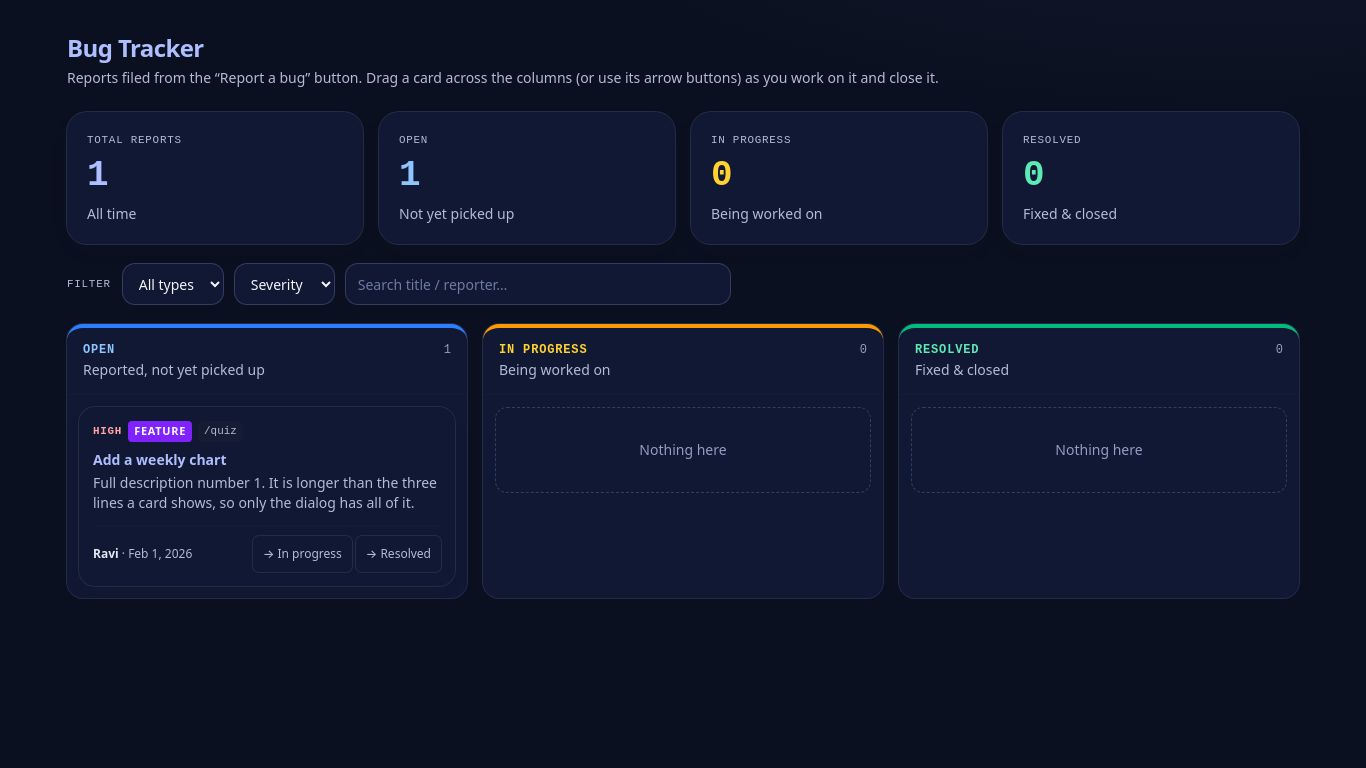
Scenario: Bug Tracker: 20 cards per column page, and every card opens › clicking a card opens the full report: everything written, who and when, and status buttons
Click the button with aria-label "Open report: Add a weekly chart". click: click(160, 459)
box: [93,440,226,479]
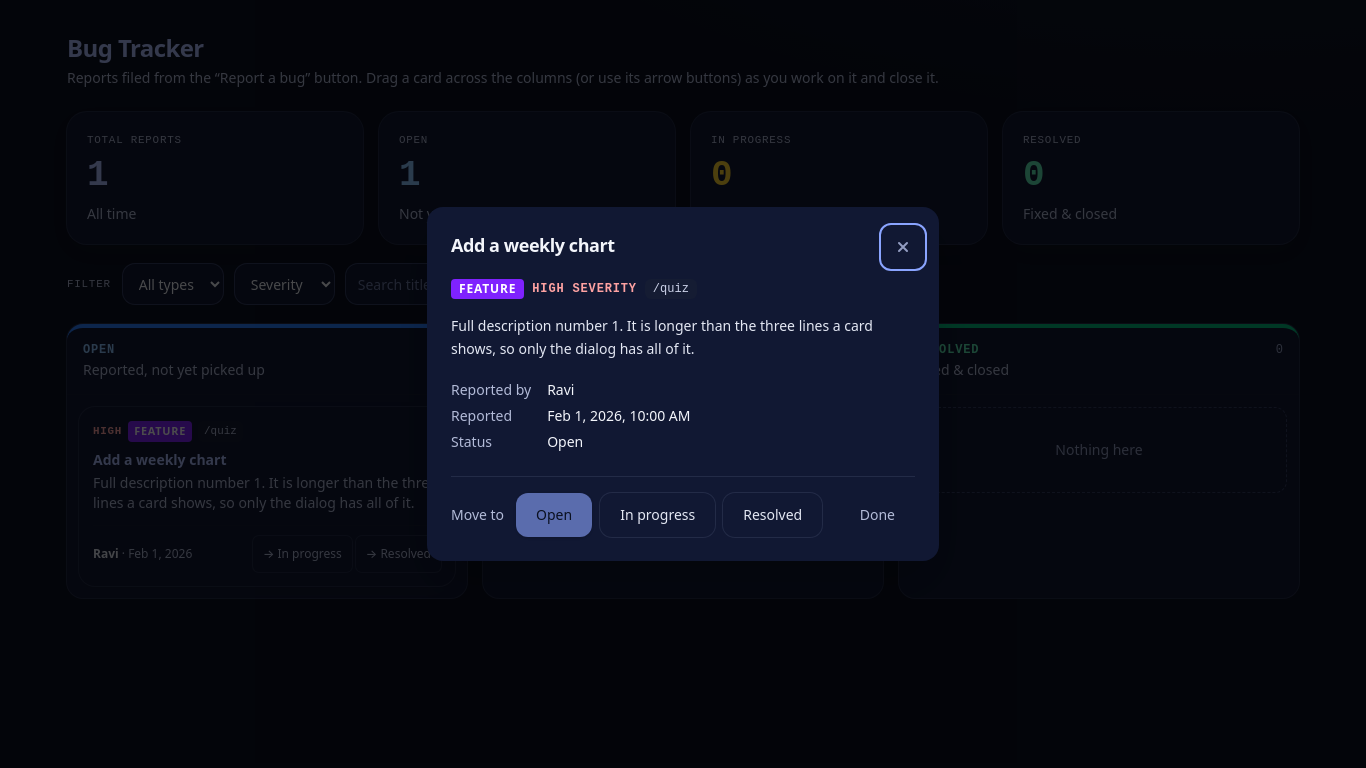
expect the text "only the dialog has all of it" is shown: met, box [451,316,877,358]
expect the text "Ravi" is shown: met, box [547,380,574,399]
expect the text "High severity" is shown: met, box [532,281,637,297]
Click the button "Done". click: click(877, 515)
box: [840,493,915,537]
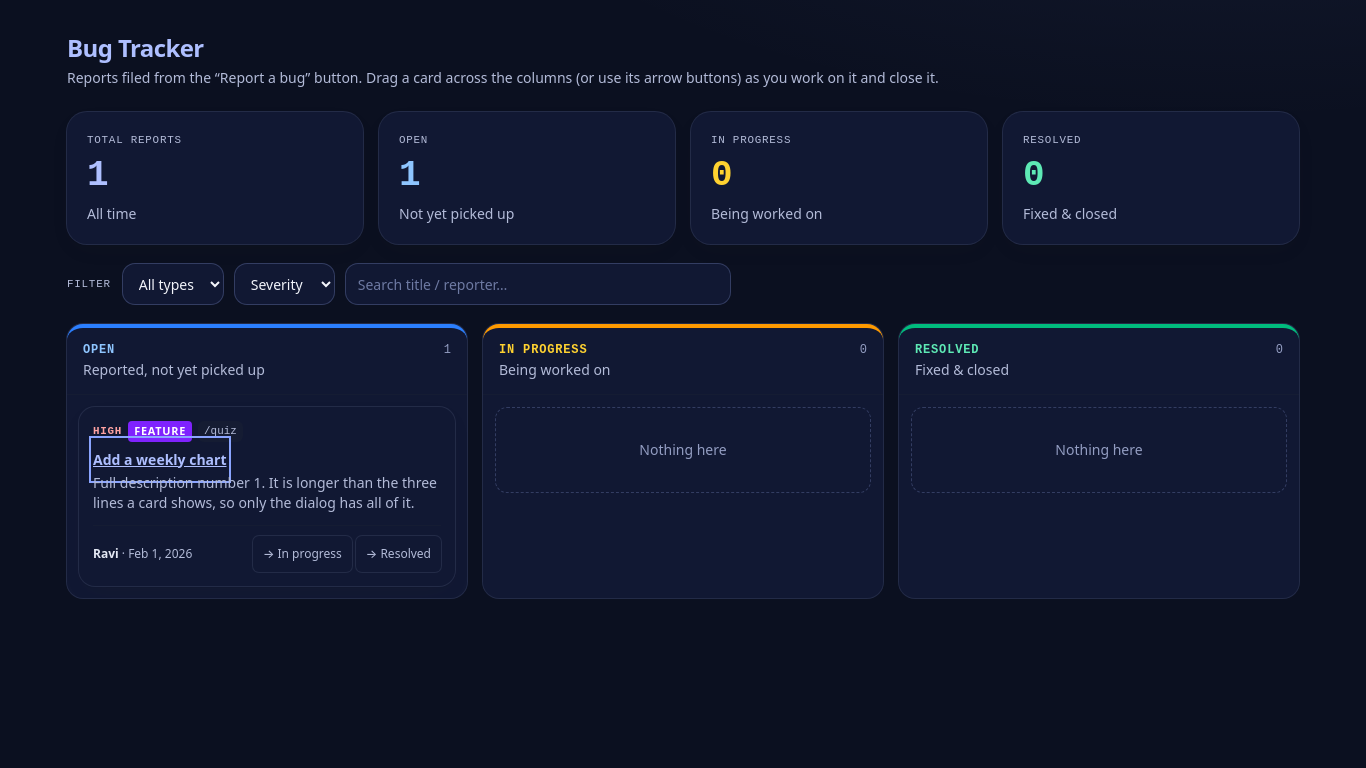
expect the dialog is gone: met
